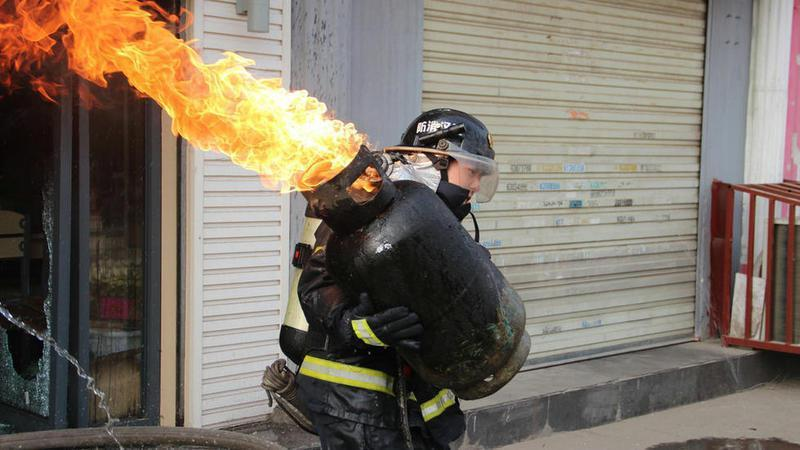fire: (6, 0, 379, 195)
